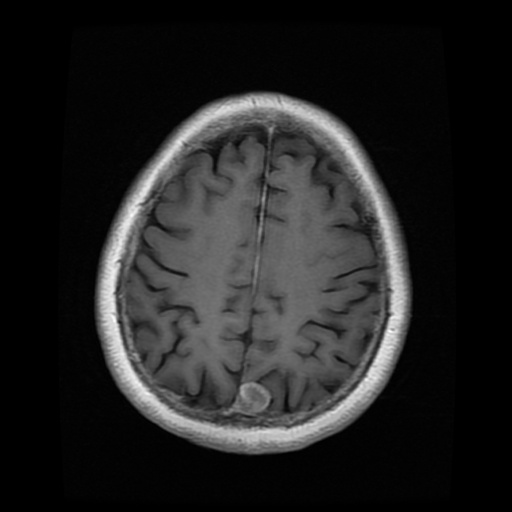meningioma: (237, 381, 269, 411)
